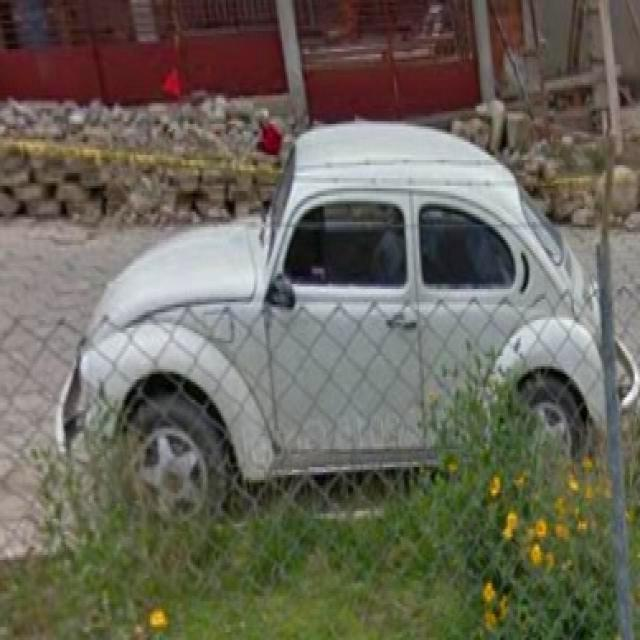Car: (49, 155, 622, 530)
